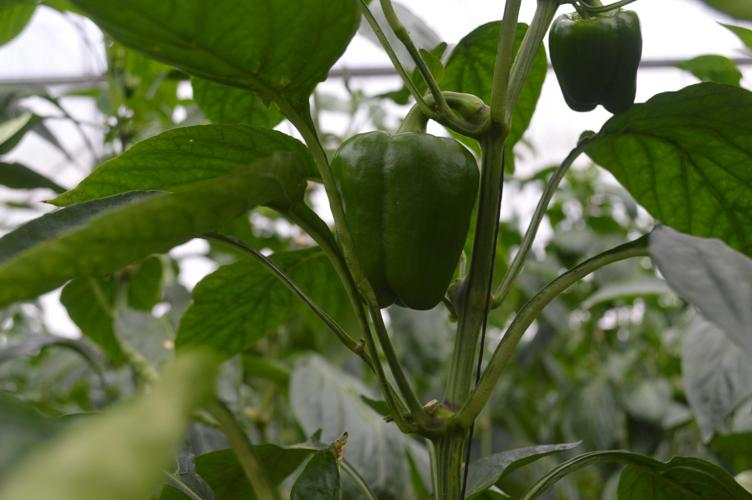BellPepper: (321, 126, 478, 321), (548, 8, 648, 117)
